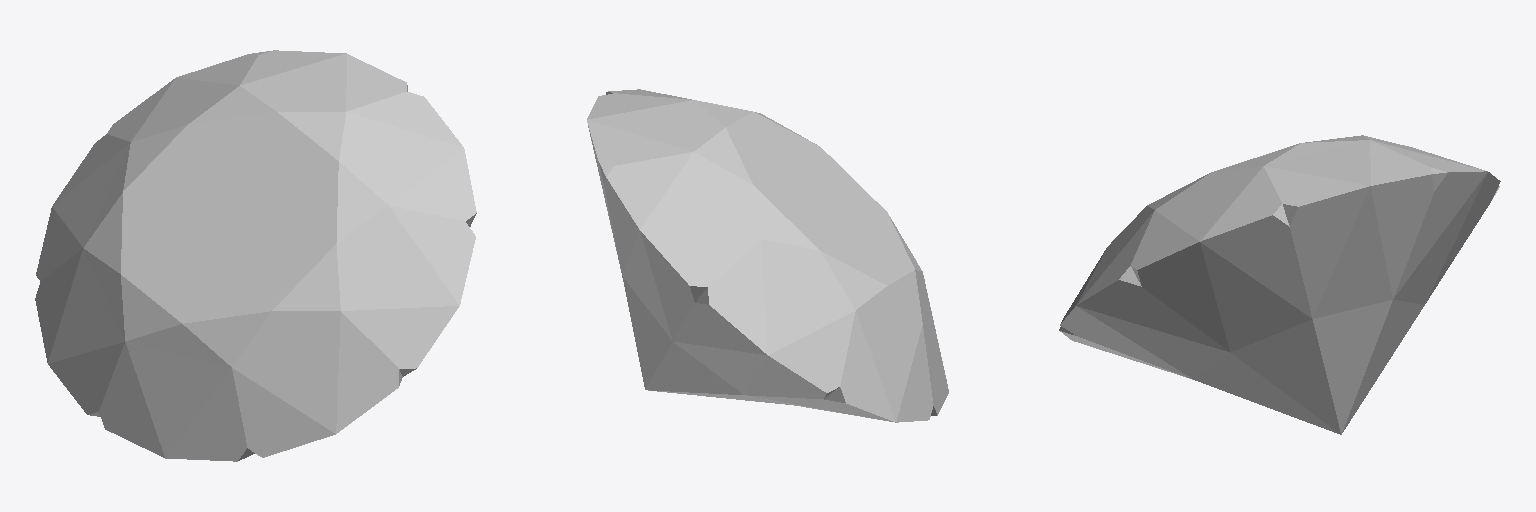
The model's file is demo_diamond6.obj.
3 renders of one model, left to right at view 1: azimuth 30°, elevation 25°; view 2: azimuth 150°, elevation 25°; view 3: azimuth 270°, elevation 25°, orthographic.
Parts seen in each view (by area): view 1: Mesh1; view 2: Mesh1; view 3: Mesh1.
Boxes of the visible parts, x1,y1,x2,y2 form: Mesh1: [35, 50, 476, 461]; Mesh1: [587, 89, 948, 422]; Mesh1: [1059, 135, 1500, 434].
Size of the model in its own units: 2.56 by 1.98 by 2.91.